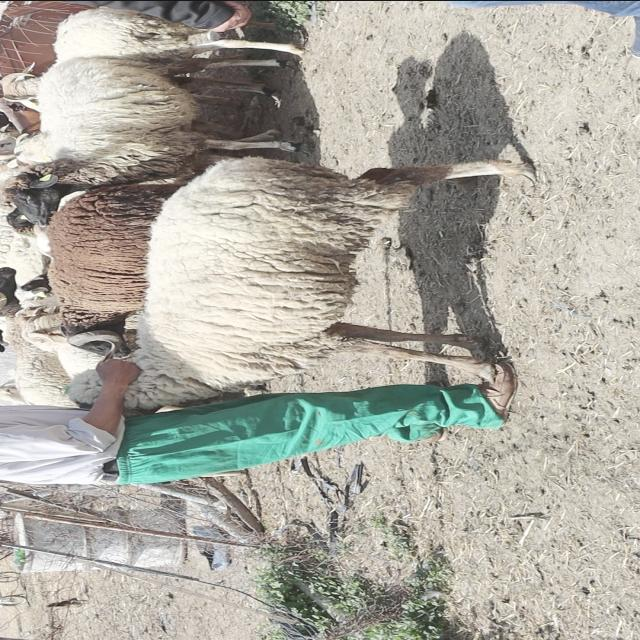Score_5: (126, 156, 535, 412)
